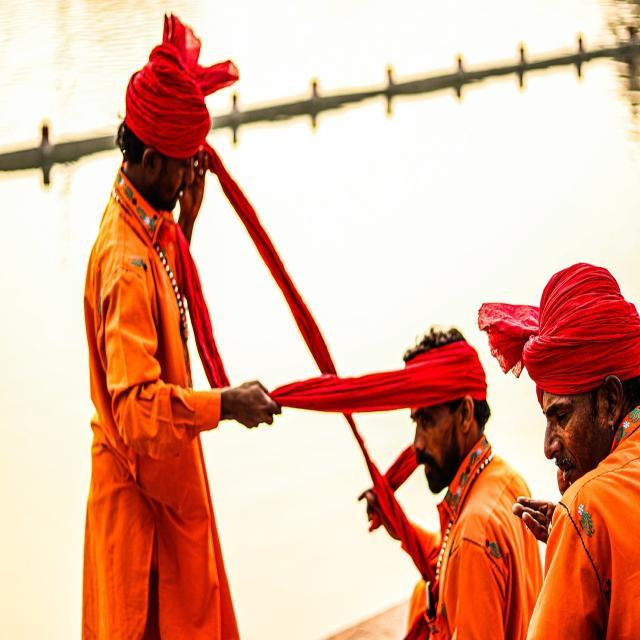no_hard_hat: (478, 263, 640, 400), (124, 15, 238, 158), (396, 339, 487, 407)
person: (82, 123, 279, 639), (355, 394, 542, 639), (513, 371, 640, 639)
